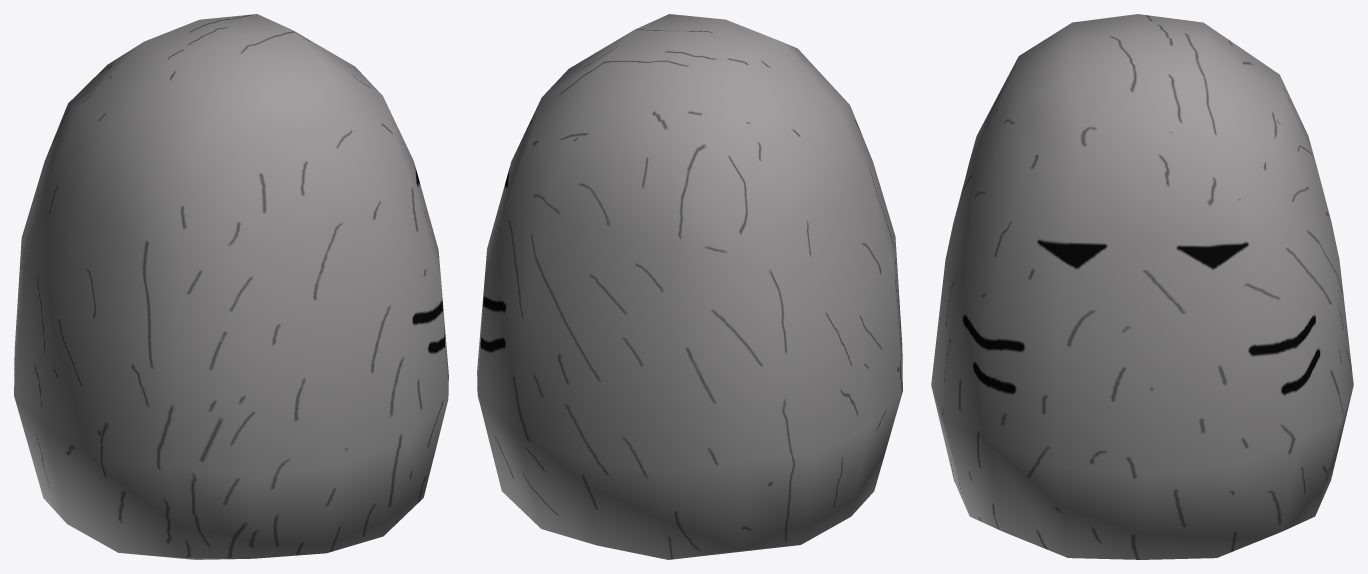
The model's file is Totem1_Finished.fbx.
3 renders of one model, left to right at view 1: azimuth 30°, elevation 25°; view 2: azimuth 150°, elevation 25°; view 3: azimuth 270°, elevation 25°, orthographic. The views are drawn at different scales.
Parts seen in each view (by area): view 1: Cube_063; view 2: Cube_063; view 3: Cube_063.
Boxes of the visible parts, x1,y1,x2,y2 form: Cube_063: (14,14,448,559); Cube_063: (477,14,902,559); Cube_063: (931,14,1353,559).
Size of the model in its own units: 0.0791 by 0.097 by 0.0791.
